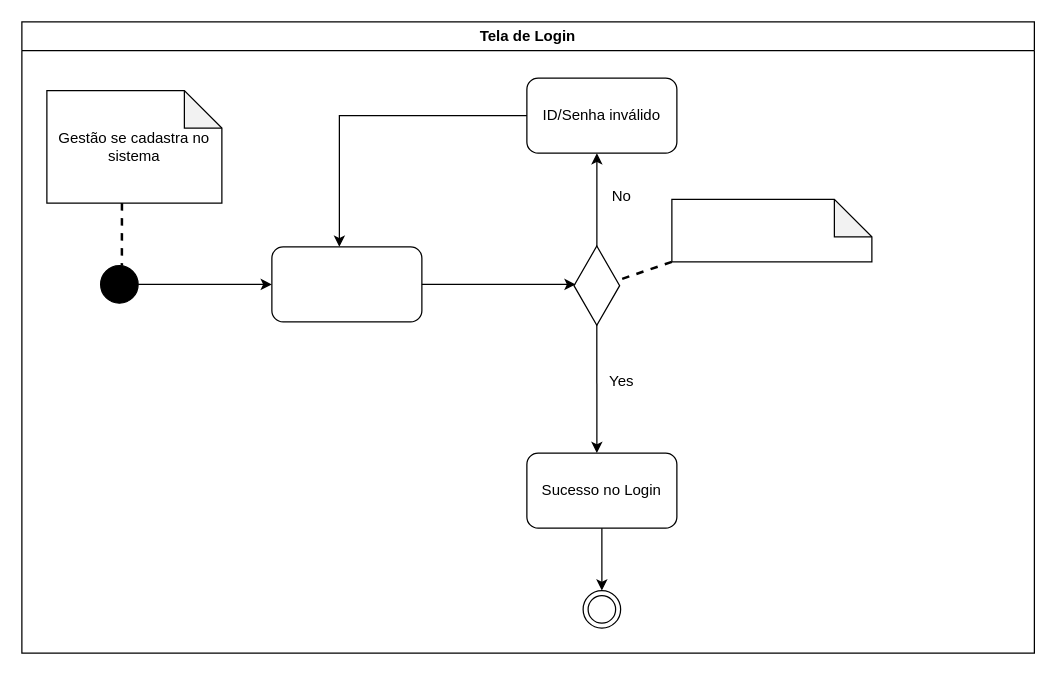
Image size: 1056x675. Some labels were removed from this diagram. Here are the shapes that lost their labels. From the top down, the centre of each, then its label:
At (771,230): "ID/Senha corretos?".
At (346,284): "Gestão faz o login no sistema".
